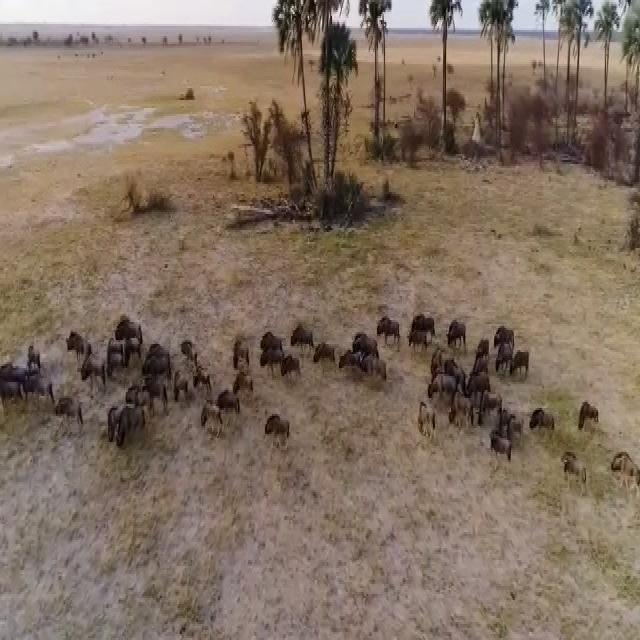Wildebeast: (0, 356, 38, 414), (114, 314, 156, 357), (260, 403, 296, 452), (180, 345, 211, 399), (135, 368, 174, 410), (472, 372, 499, 430), (376, 300, 405, 349), (442, 314, 471, 362), (70, 326, 96, 374), (104, 339, 124, 398), (532, 396, 557, 442), (425, 378, 460, 410), (490, 424, 514, 470), (217, 385, 241, 430), (411, 316, 440, 353), (361, 350, 391, 384), (227, 326, 251, 367), (309, 342, 339, 374), (417, 399, 439, 442), (80, 359, 107, 394), (488, 316, 520, 345), (260, 333, 288, 366), (258, 351, 283, 386), (113, 416, 154, 437), (513, 345, 536, 382), (170, 377, 193, 414), (204, 393, 223, 436), (234, 370, 257, 404), (279, 356, 306, 383), (292, 322, 315, 353)
